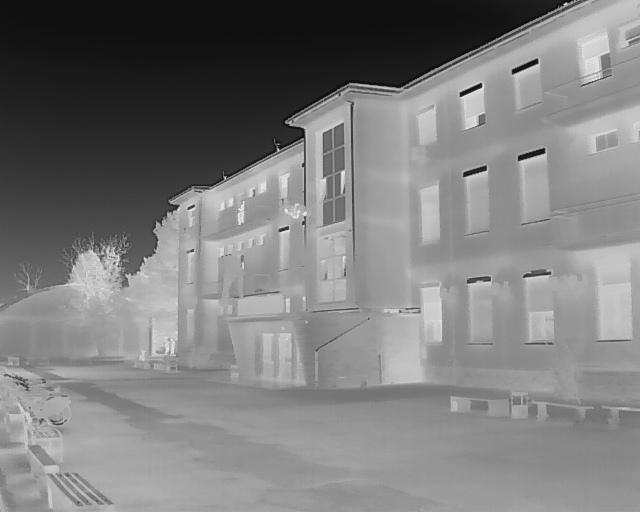drone: (274, 196, 313, 223)
